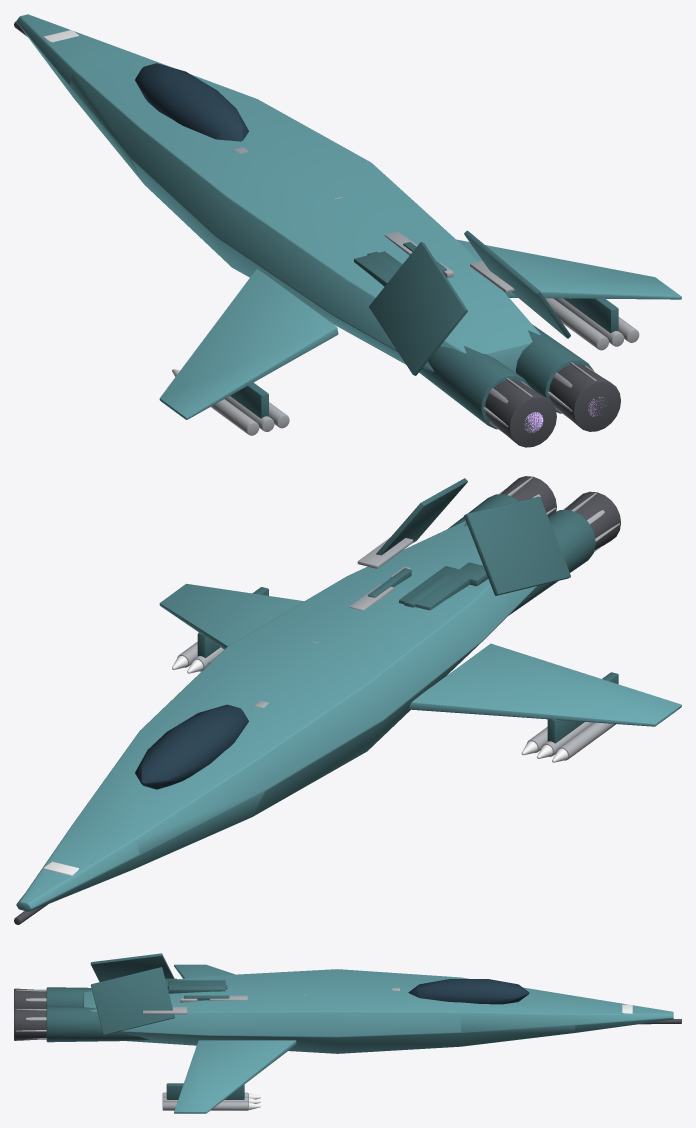
Rendered from ship_raptor.glb.
The picture shows the model from 3 angles, top to bottom: view 1: azimuth 30°, elevation 25°; view 2: azimuth 150°, elevation 25°; view 3: azimuth 270°, elevation 25°; orthographic projection. The views are drawn at different scales.
Visible parts, largest first — view 1: ShipRaptor; view 2: ShipRaptor; view 3: ShipRaptor.
Part boxes in pixels (x1,y1,x2,y2): ShipRaptor: [14, 14, 681, 447]; ShipRaptor: [14, 476, 681, 924]; ShipRaptor: [14, 953, 681, 1113].
Bounding box in the file's own units: 8.51 × 2.52 × 16.3.
